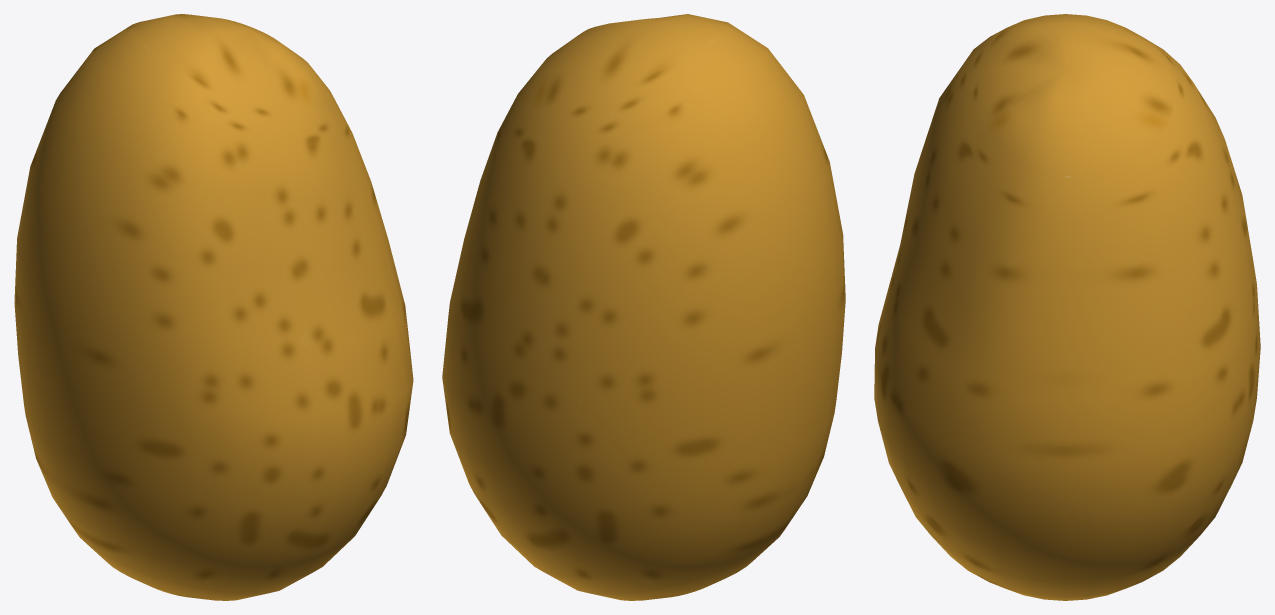
Rendered from Potato1.fbx.
3 renders of one model, left to right at view 1: azimuth 30°, elevation 25°; view 2: azimuth 150°, elevation 25°; view 3: azimuth 270°, elevation 25°, orthographic. The views are drawn at different scales.
Parts seen in each view (by area): view 1: Sphere.001; view 2: Sphere.001; view 3: Sphere.001.
Part boxes in pixels (x1=…): Sphere.001: x1=14, y1=14, x2=413, y2=600; Sphere.001: x1=442, y1=14, x2=845, y2=600; Sphere.001: x1=874, y1=14, x2=1260, y2=600.
Bounding box in the file's own units: 139 × 216 × 139.
